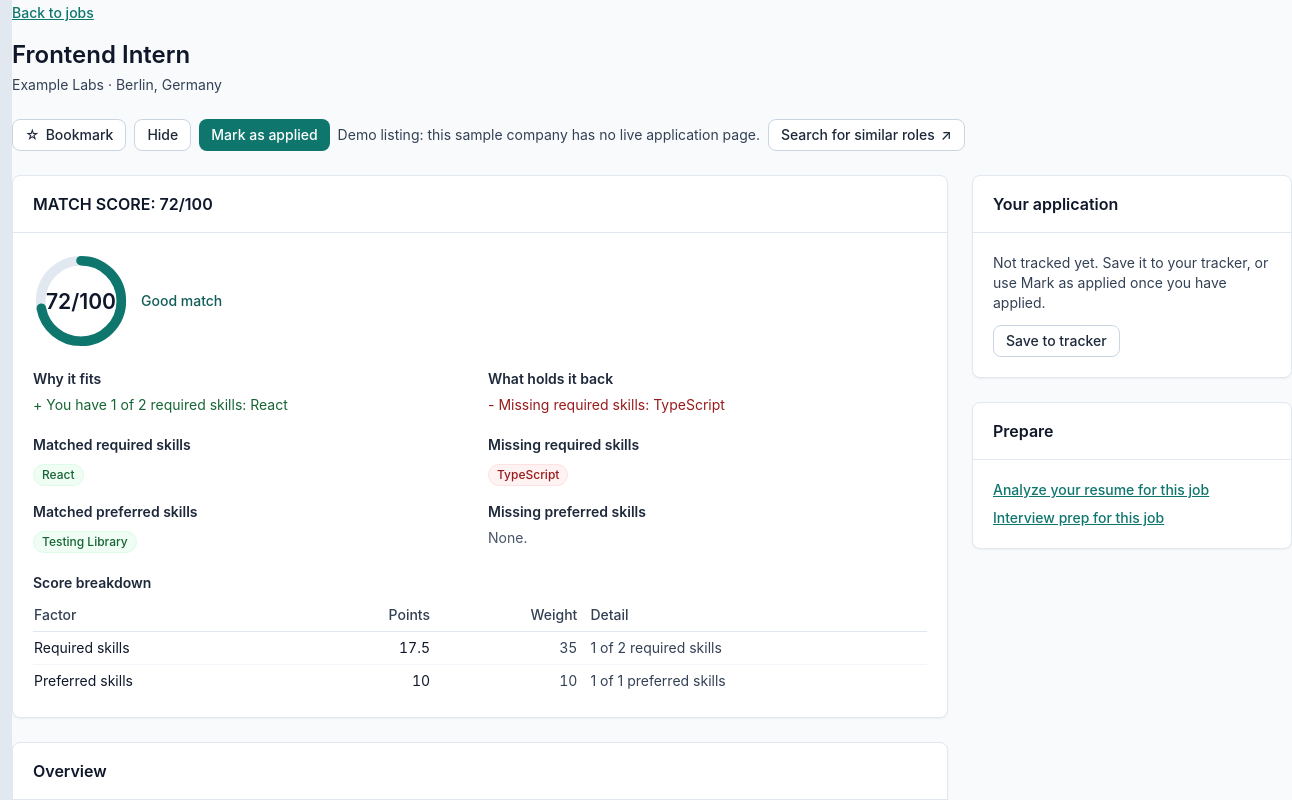
Test: JobDetailPage › saves an untracked job to the tracker with status Saved
The width and height of the screenshot is (1292, 800).
Check: the text "Not tracked yet" is shown, box [993, 254, 1268, 311]
Click the button "Save to tracker".
click(1056, 341)  # box [993, 325, 1120, 357]
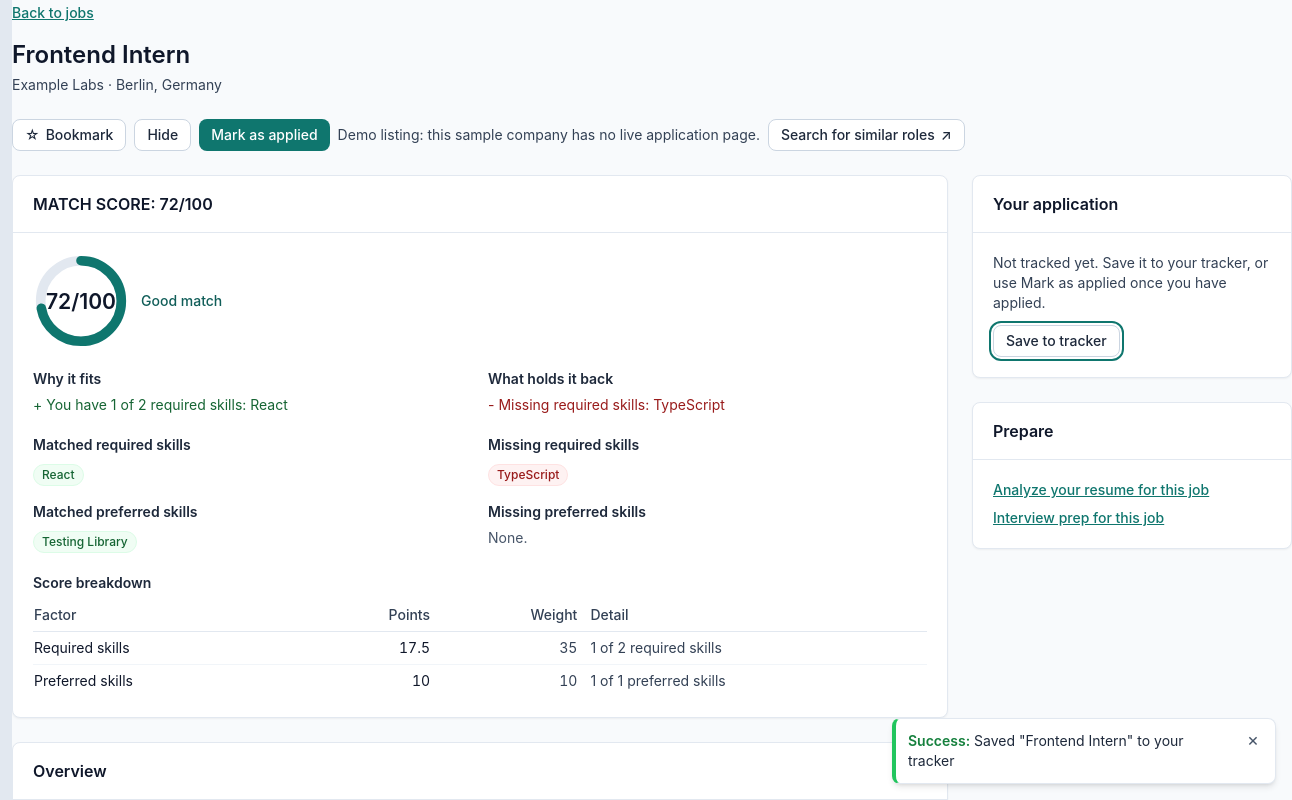
Check: the text "Saved \"Frontend Intern\" to your tracker" is shown, box [908, 732, 1184, 769]
